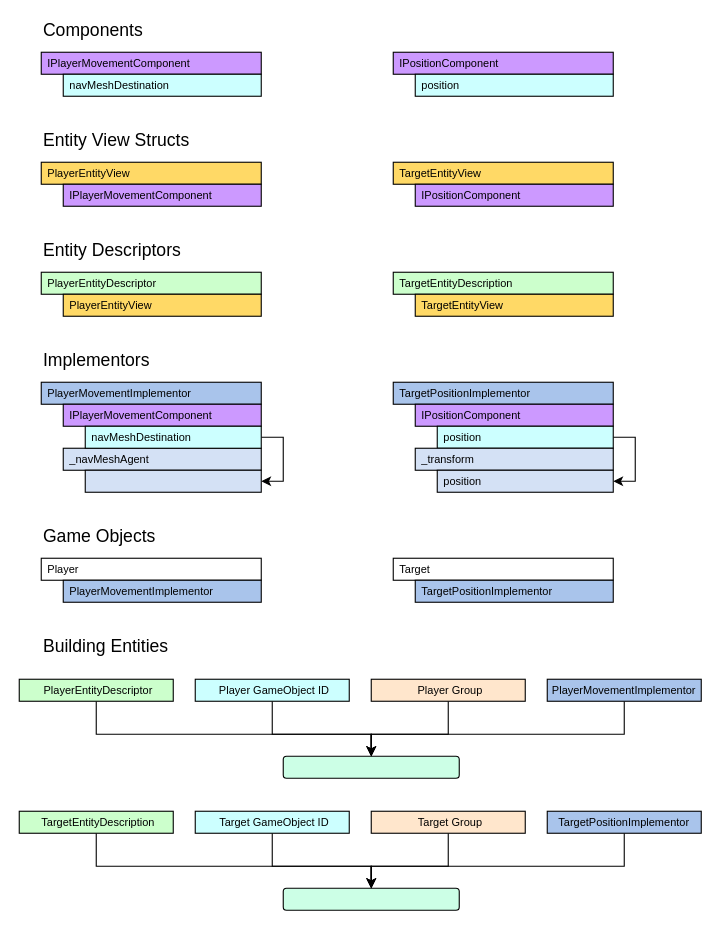
Some shapes in this 721 by 930 pixel diagram are drawn without their labels. The centre of each missing label's shape, as x and y in pixels:
Build Player Entity: point 370,766
Build Target Entity: point 370,898
destination: point 172,480
